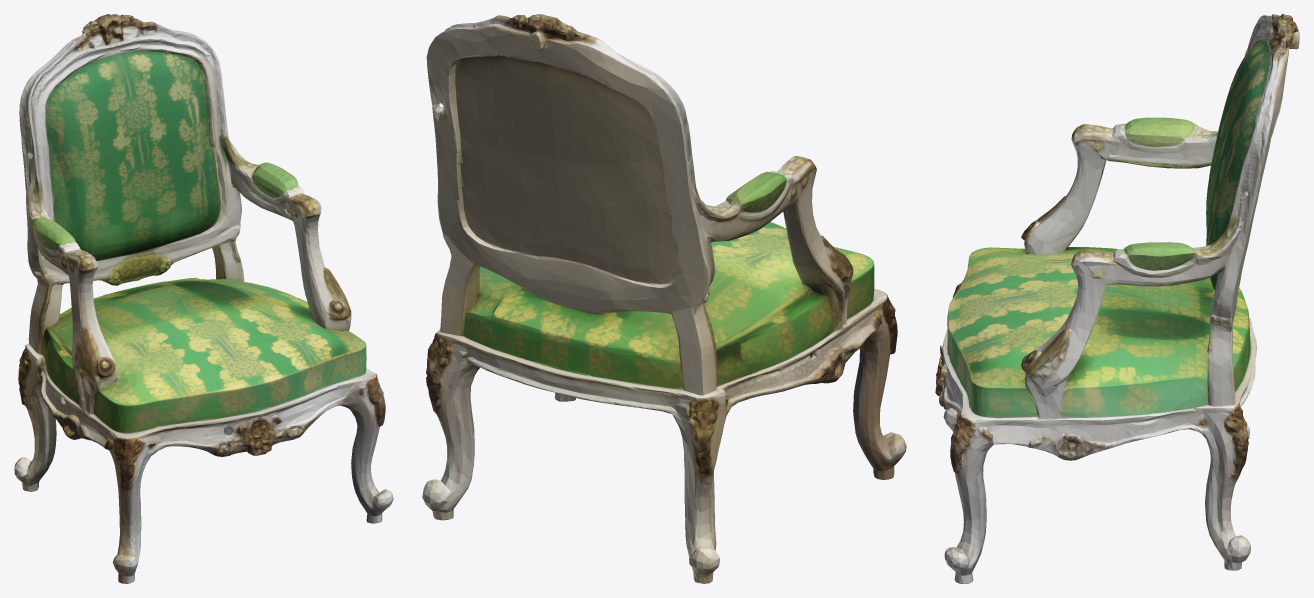
3 renders of one model, left to right at view 1: azimuth 30°, elevation 25°; view 2: azimuth 150°, elevation 25°; view 3: azimuth 270°, elevation 25°, orthographic. The views are drawn at different scales.
Parts seen in each view (by area): view 1: world; view 2: world; view 3: world.
Part boxes in pixels (box(x1,y1,x2,y2)): world: box(14, 14, 393, 583); world: box(422, 14, 906, 583); world: box(935, 14, 1299, 583).
Size of the model in its own units: 0.6747 by 0.9982 by 0.6726.
Materials: 1 (1 with a texture image).
